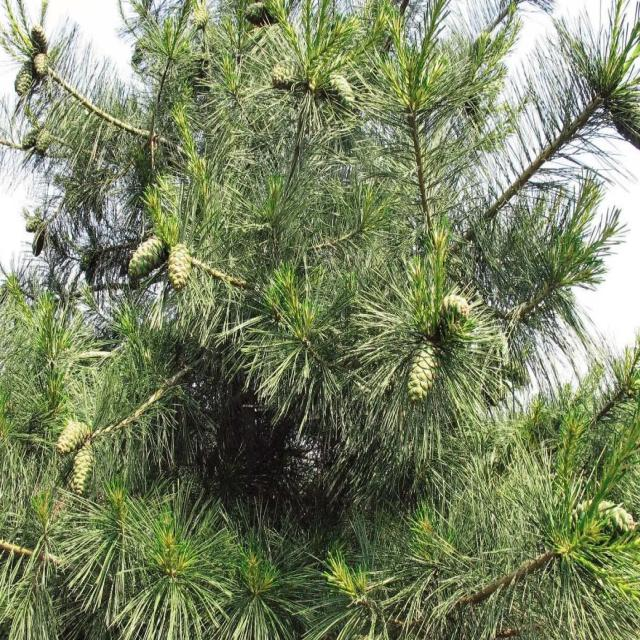huashansong: (10, 7, 640, 637)
